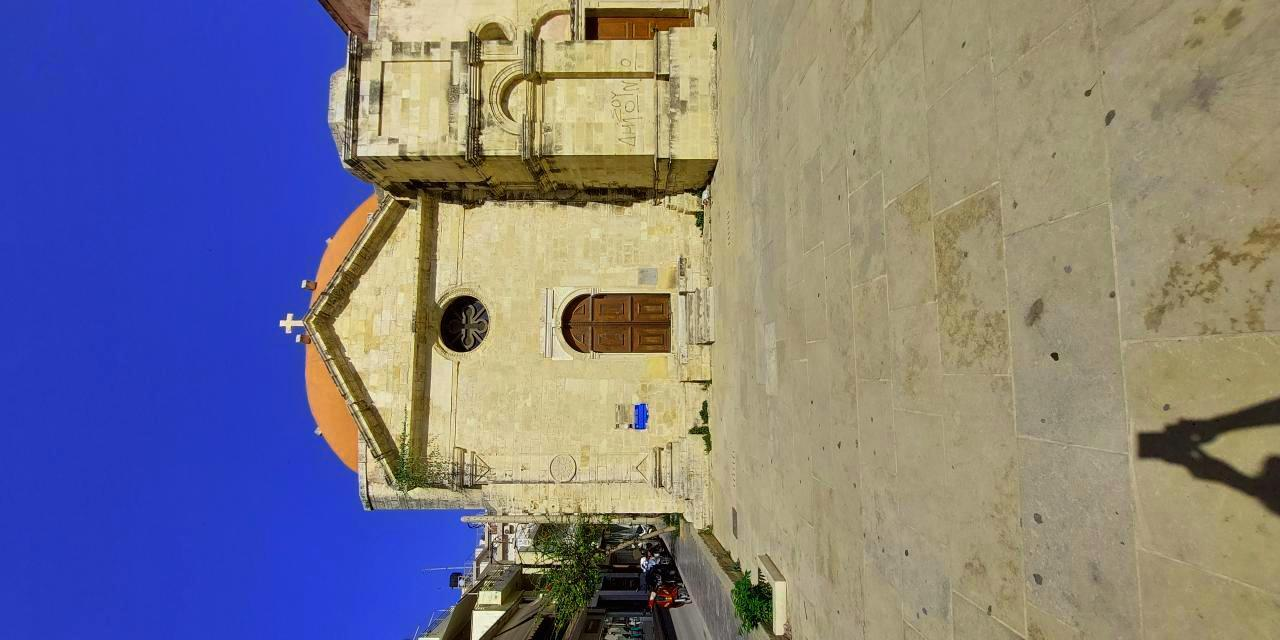Agia Aikaterini: (274, 188, 730, 525)
